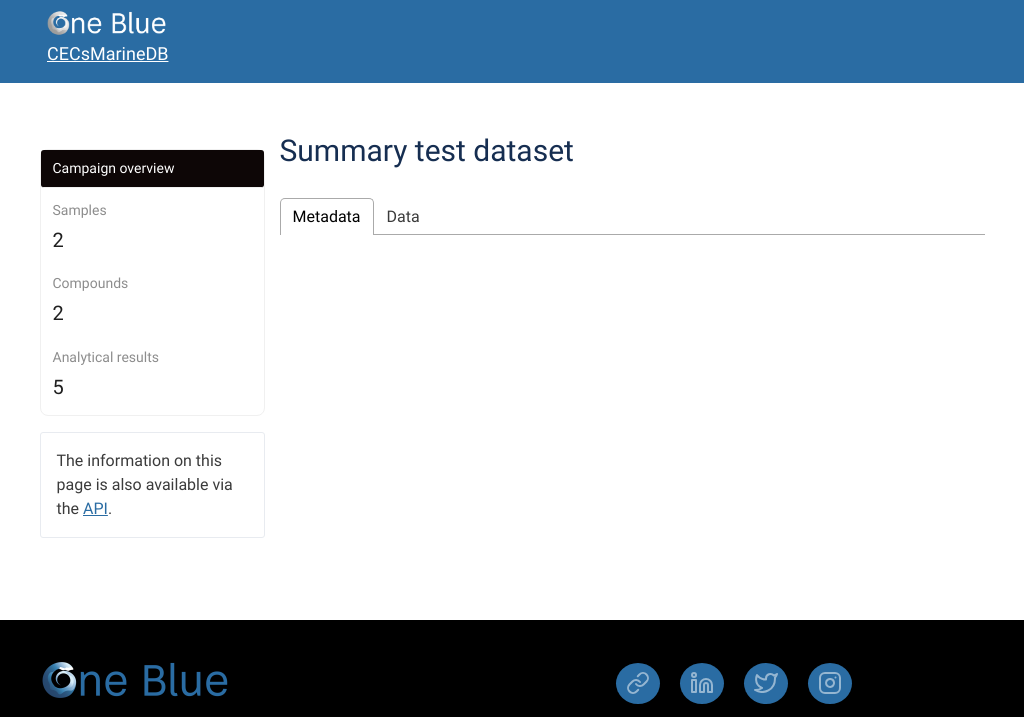
Sampling campaign summaries › keeps the overview visible on both tabs and orders four compact cards
Check: the element with class "campaign-overview" is shown, box [40,149,265,416]
Click the tab "Data": (404, 217) [387,207,420,226]
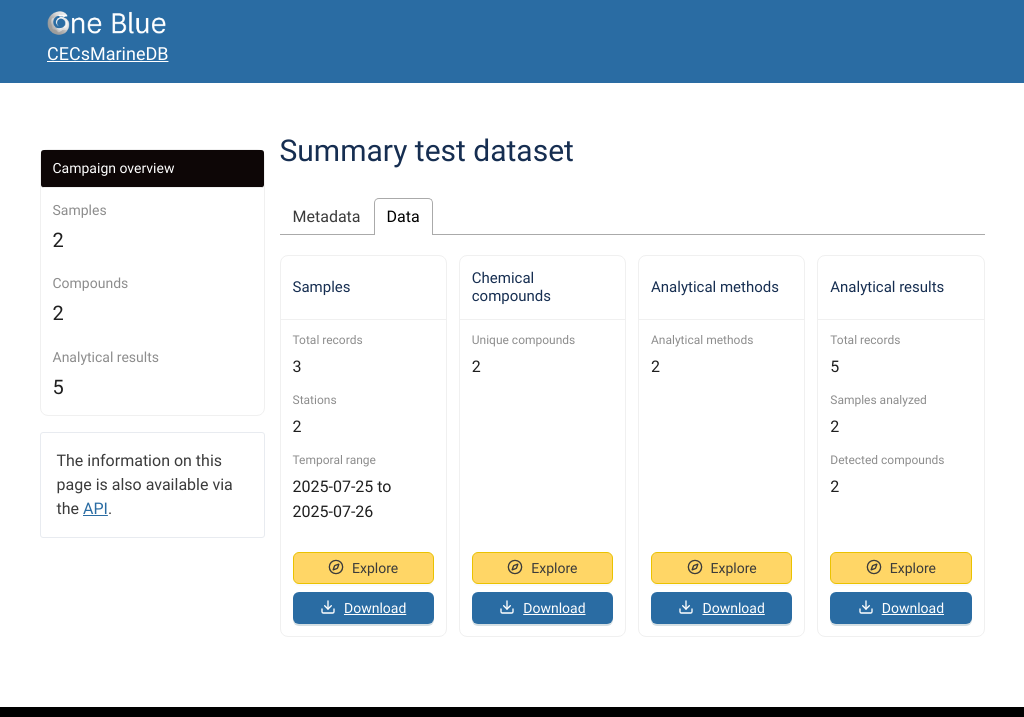
Check: the element with class "campaign-overview" is shown, box [40,149,265,416]
Check: the number of buttons "Explore" is 4, box [292,552,434,584]; [472,552,613,584]; [651,552,792,584]; [830,552,972,584]
Check: the number of links "Download" is 4, box [292,592,434,624]; [472,592,613,624]; [651,592,792,624]; [830,592,972,624]
